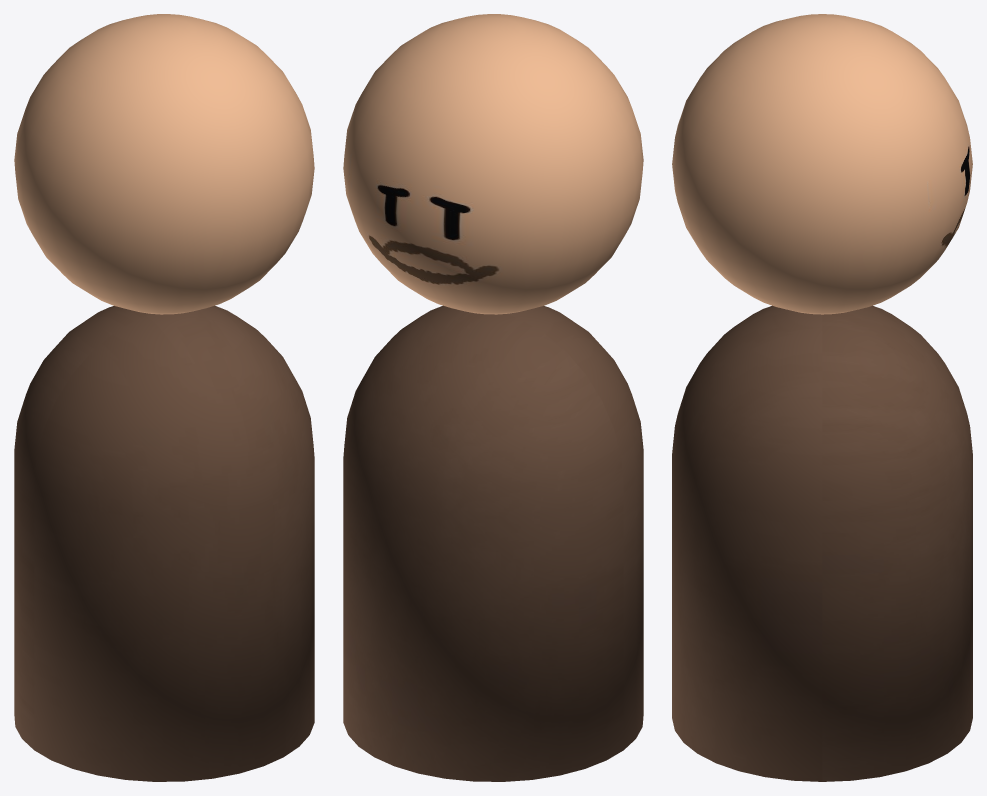
Rendered from SDF.fbx.
The picture shows the model from 3 angles, left to right: view 1: azimuth 30°, elevation 25°; view 2: azimuth 150°, elevation 25°; view 3: azimuth 270°, elevation 25°; orthographic projection.
Visible parts, largest first — view 1: corp, tete; view 2: corp, tete; view 3: corp, tete.
Part boxes in pixels (x1,y1,x2,y2): corp: (14, 305, 314, 781); tete: (14, 14, 314, 314); corp: (343, 305, 643, 781); tete: (343, 14, 643, 314); corp: (672, 305, 972, 781); tete: (672, 14, 972, 314).
Size of the model in its own units: 120 by 304 by 120.
